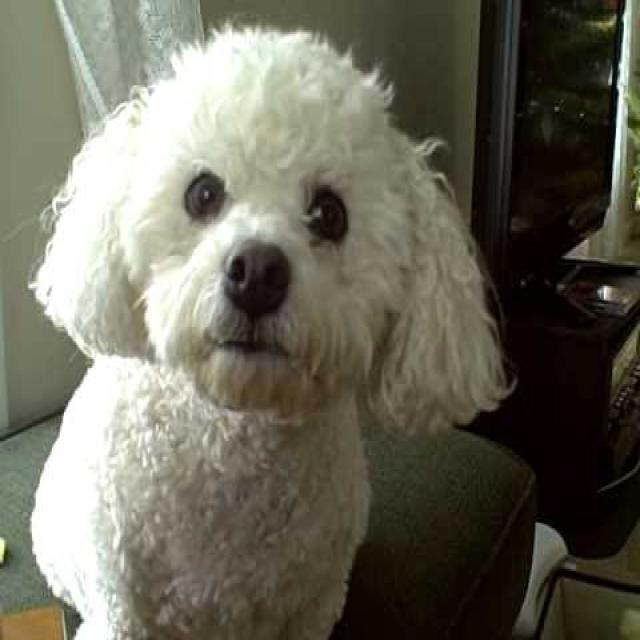dog: (32, 15, 492, 460)
